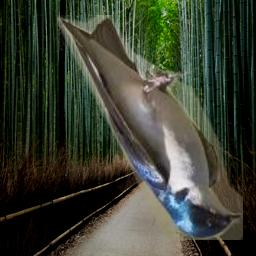Swallow: (57, 15, 243, 240)
